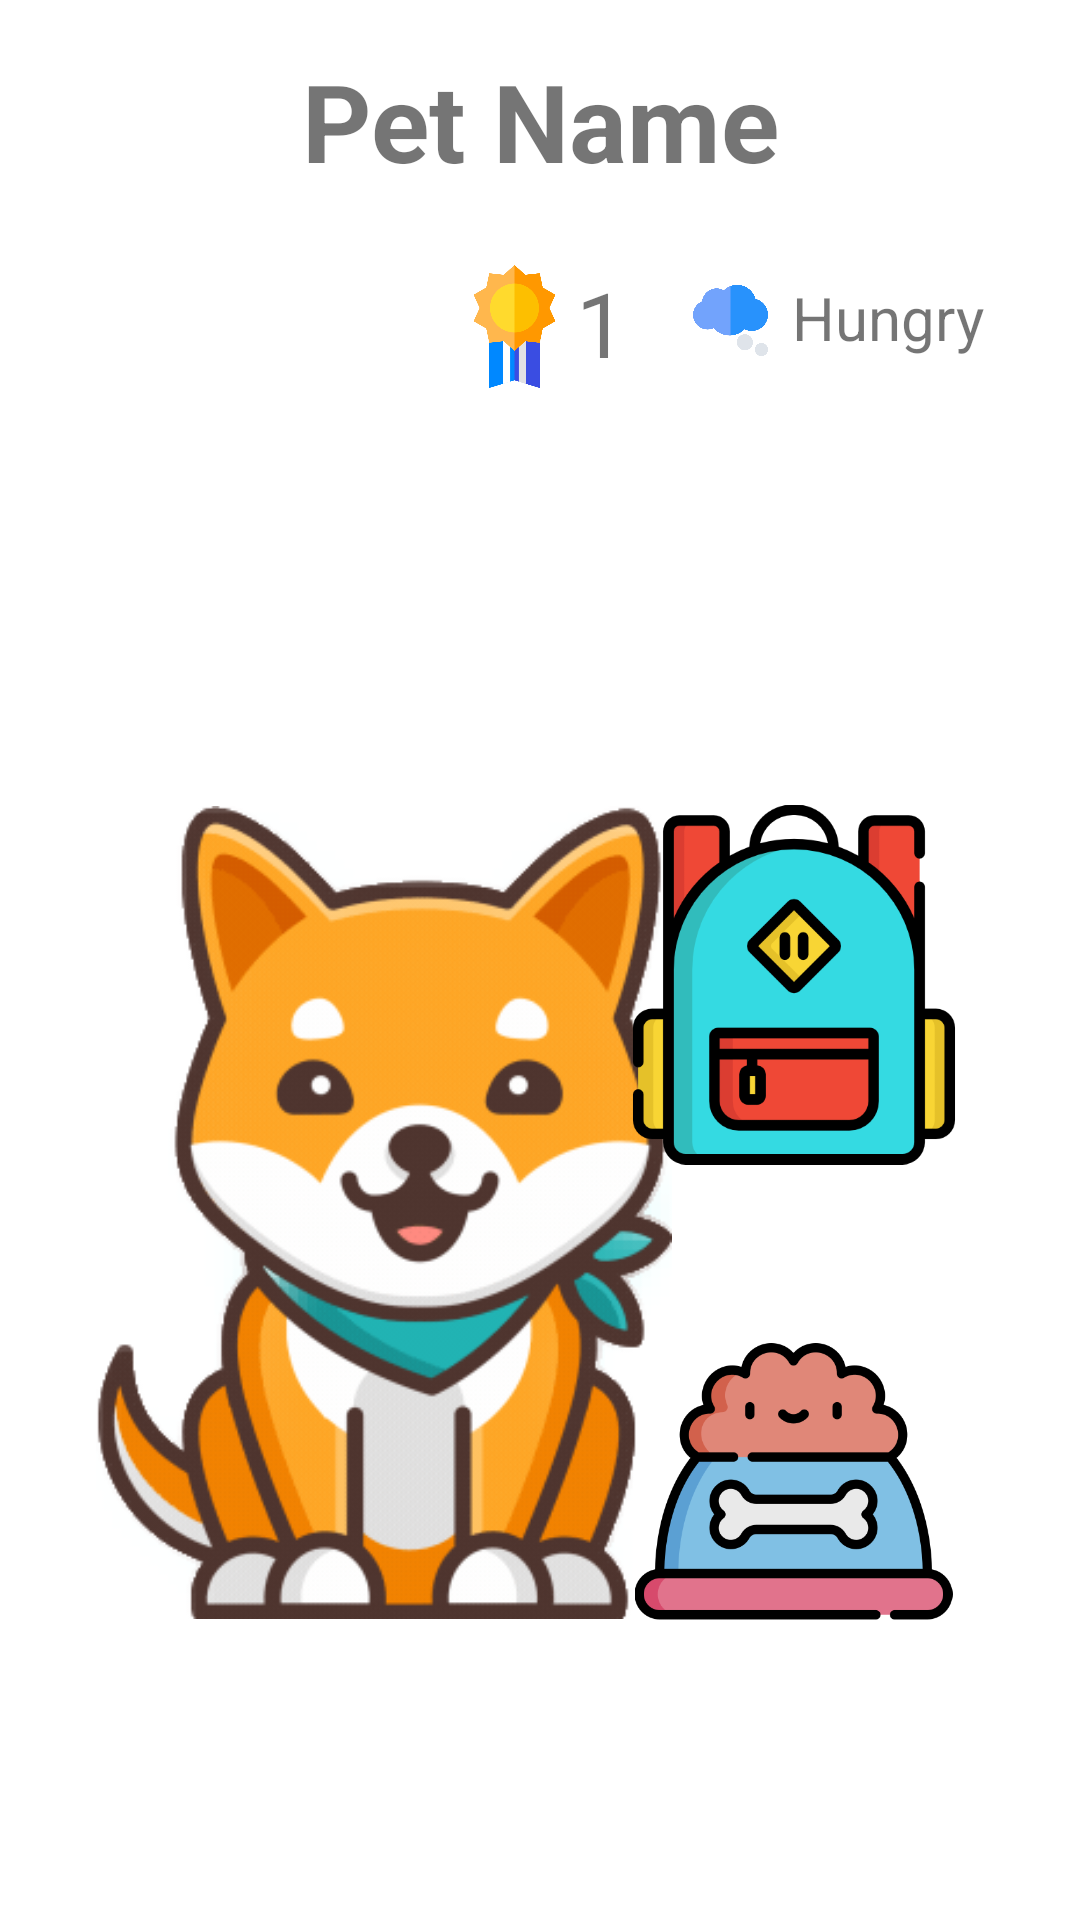

Screen size 1080*1920. Icon name, then its center in pixels as [x,y]:
dog bowl: [794,1481]
medal: [514,326]
thinking: [730,320]
